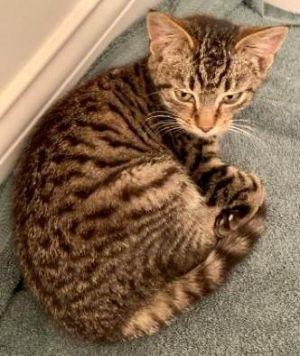bengal: (134, 1, 290, 147)
